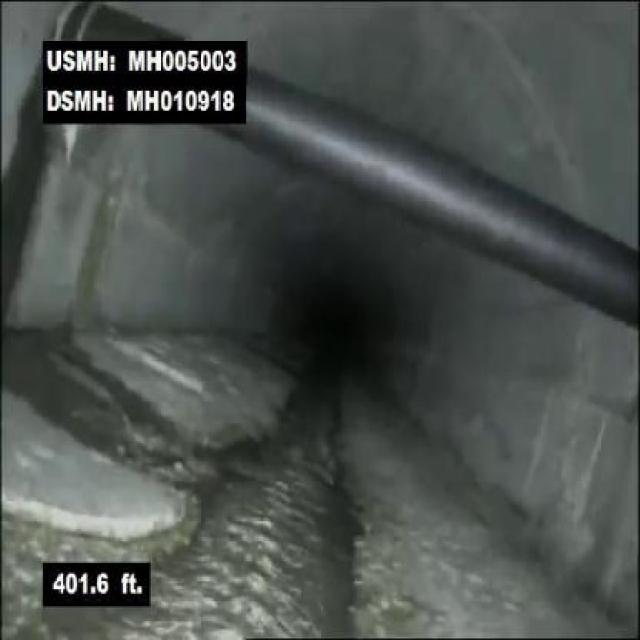Utility intrusion: (260, 46, 638, 352)
